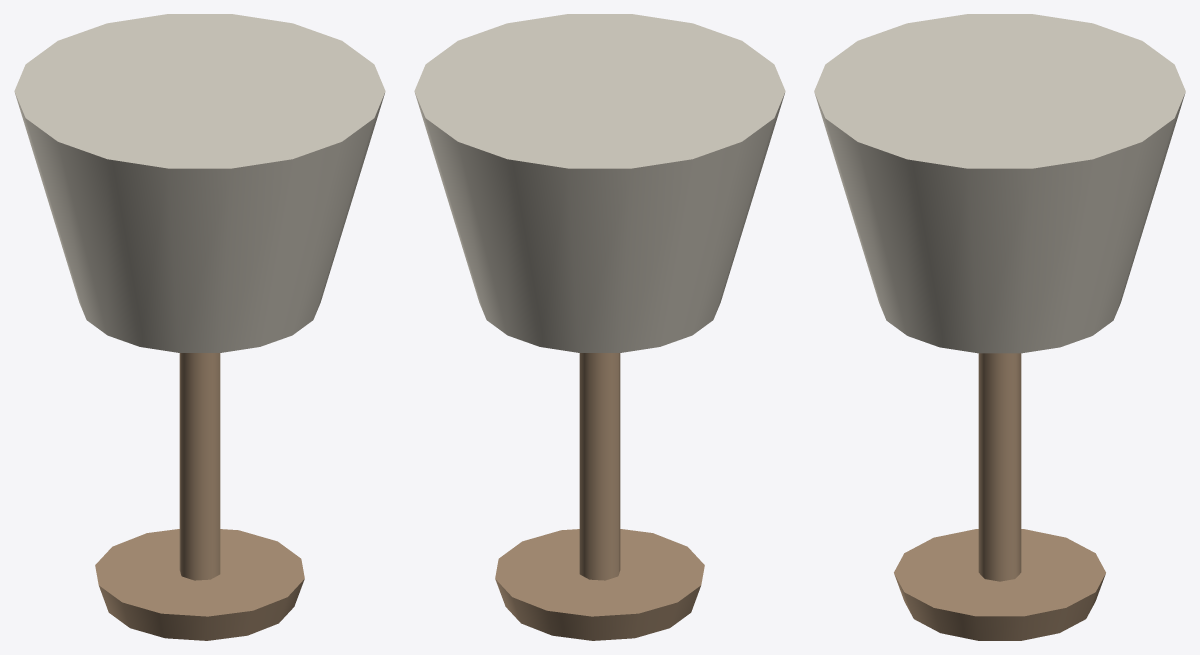
Rendered from 1781-Furniture-interiors-tableLamp.glb.
3 views of the same model, side by side, from view 1: azimuth 30°, elevation 25°; view 2: azimuth 150°, elevation 25°; view 3: azimuth 270°, elevation 25° (orthographic).
Parts seen in each view (by area): view 1: Furniture (interiors)/tableLamp; view 2: Furniture (interiors)/tableLamp; view 3: Furniture (interiors)/tableLamp.
Boxes of the visible parts, left/top/right/bottom form: Furniture (interiors)/tableLamp: left=14, top=14, right=385, bottom=640; Furniture (interiors)/tableLamp: left=414, top=14, right=785, bottom=640; Furniture (interiors)/tableLamp: left=814, top=14, right=1185, bottom=640.
Bounding box in the file's own units: 0.3447 × 0.53 × 0.35.
